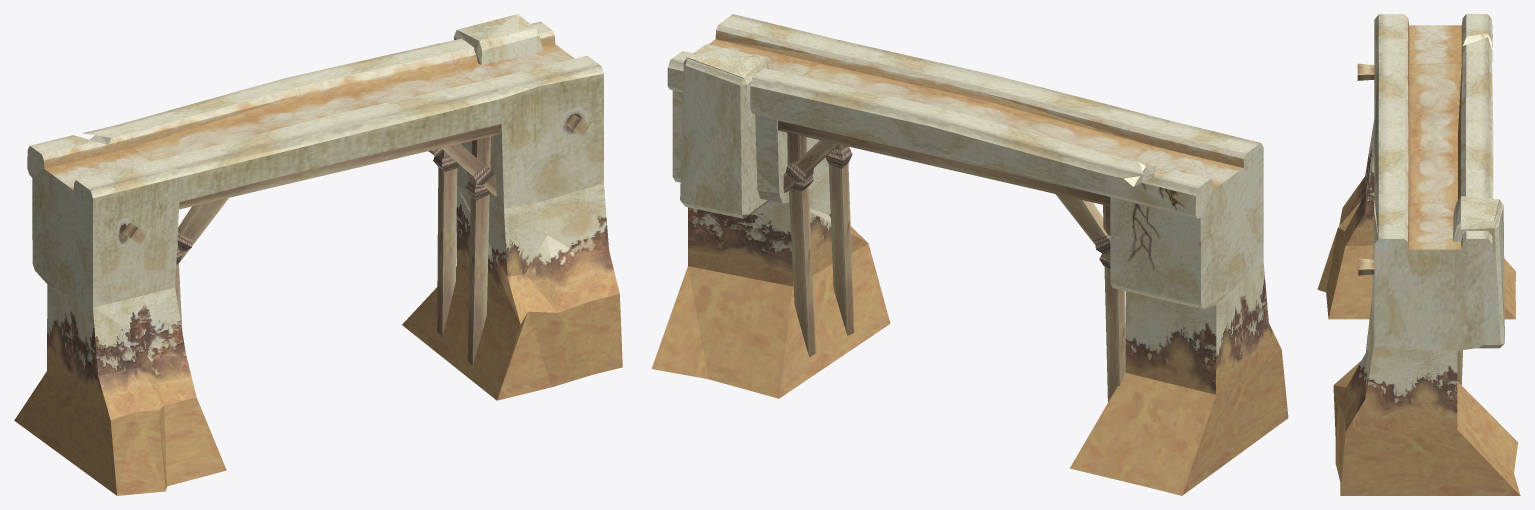
The model's file is C2SMWA20VHL_H.obj.
3 renders of one model, left to right at view 1: azimuth 30°, elevation 25°; view 2: azimuth 150°, elevation 25°; view 3: azimuth 270°, elevation 25°, orthographic. The views are drawn at different scales.
Visible parts, largest first — view 1: Node 0; view 2: Node 0; view 3: Node 0.
Boxes of the visible parts, box(x1,y1,x2,y2) form: Node 0: box(14, 14, 622, 495); Node 0: box(651, 14, 1288, 495); Node 0: box(1317, 14, 1520, 495).
Size of the model in its own units: 20 by 11.1 by 7.66.
Materials: 4 (4 with a texture image).
